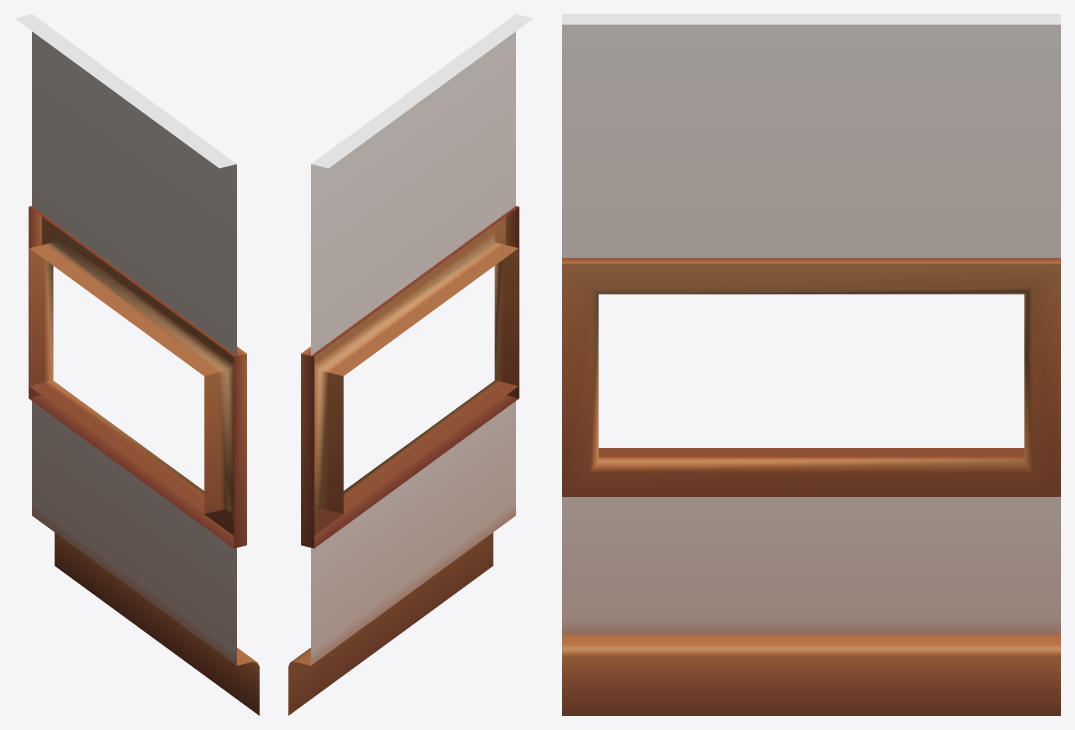
The model's file is WindowWall.fbx.
3 views of the same model, side by side, from view 1: azimuth 30°, elevation 25°; view 2: azimuth 150°, elevation 25°; view 3: azimuth 270°, elevation 25° (orthographic). The views are drawn at different scales.
Parts seen in each view (by area): view 1: WhiteWall_Basic.002; view 2: WhiteWall_Basic.002; view 3: WhiteWall_Basic.002.
Boxes of the visible parts, x1,y1,x2,y2 form: WhiteWall_Basic.002: (15,14,259,715); WhiteWall_Basic.002: (288,14,532,715); WhiteWall_Basic.002: (562,14,1060,715).
Bounding box in the file's own units: 3 × 0.2276 × 2.
